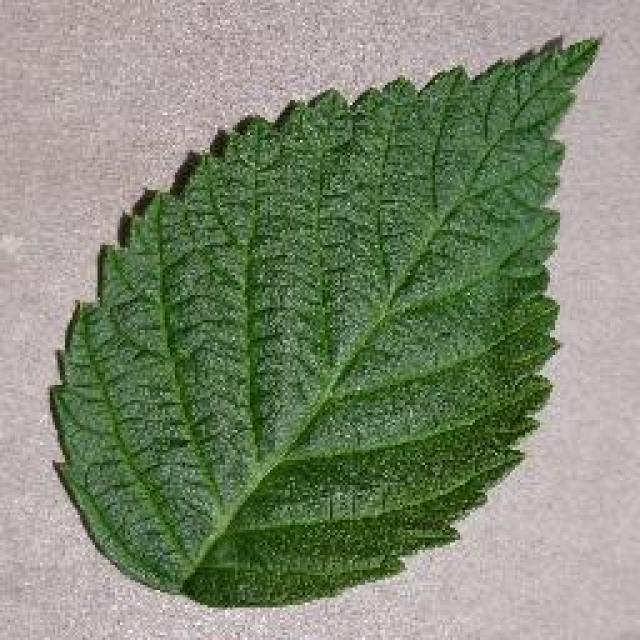Ras_healthy: (79, 97, 531, 582)
